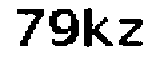7: (9, 6, 45, 50)
9: (46, 5, 80, 49)
k: (80, 5, 114, 50)
z: (117, 16, 146, 50)
